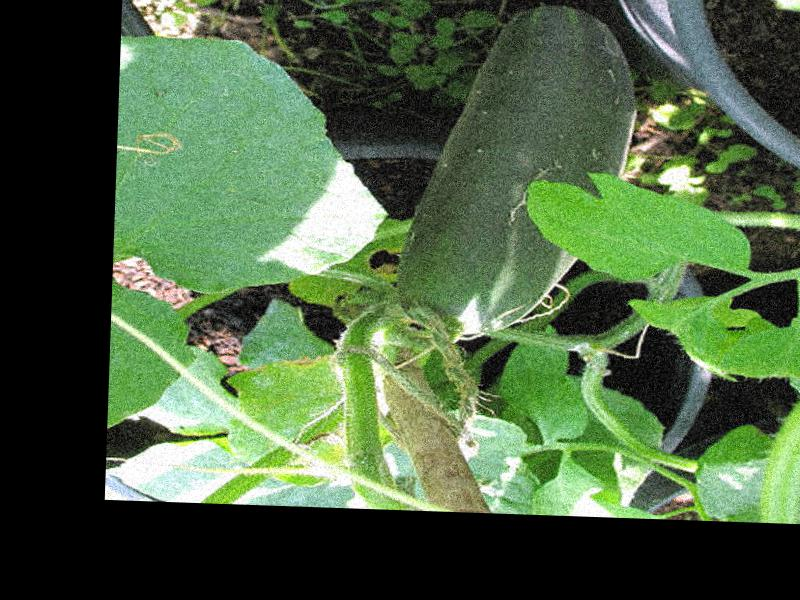Cucumber: (394, 0, 637, 342)
